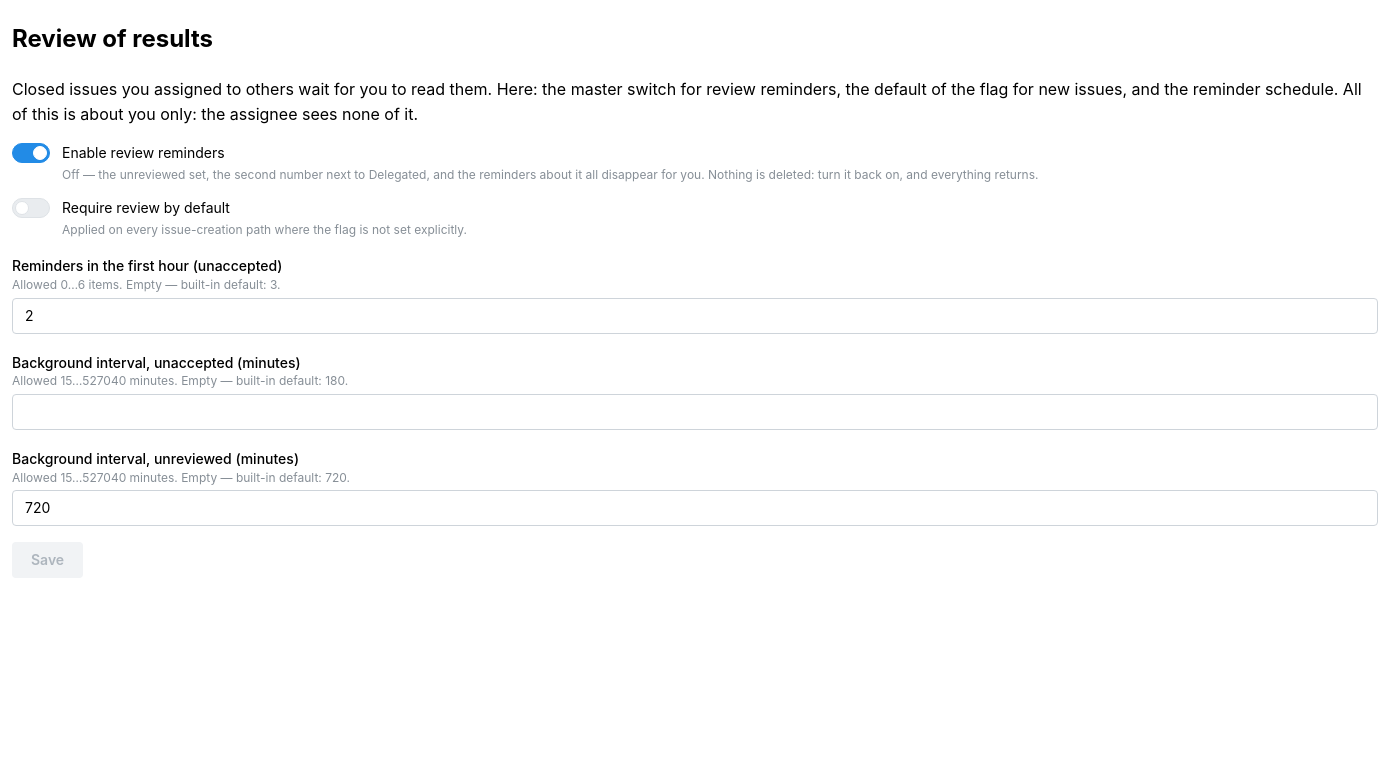
Test: row 99 — a value outside the bounds shows the server refusal, unedited › an interval below the minimum is refused the same way (SC-027)
This screenshot has width=1378, height=768.
Type "5" into the field with test id "review-unaccepted-interval" at point(695, 412), box [12, 394, 1377, 430]
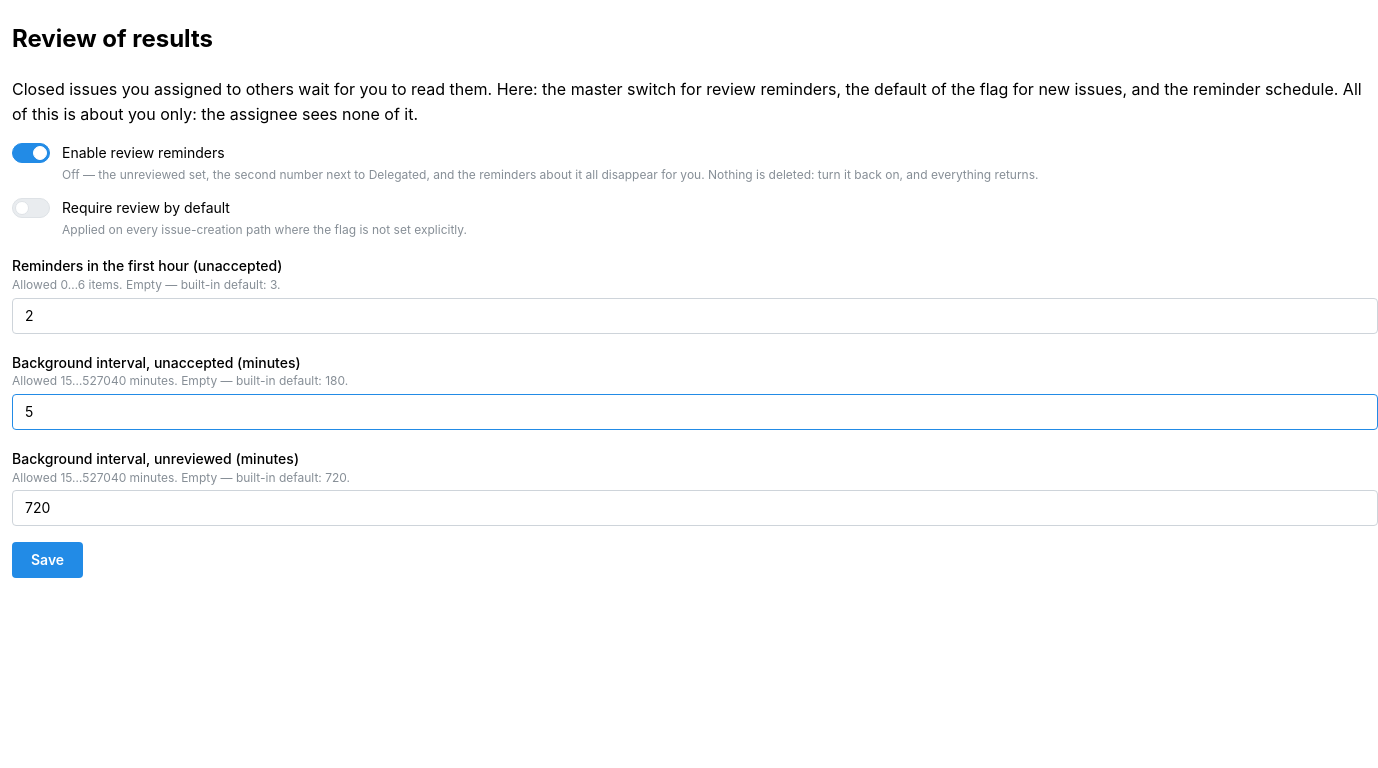
Click the button with aria-label "Save review settings" at point(48, 560), box [12, 542, 83, 578]
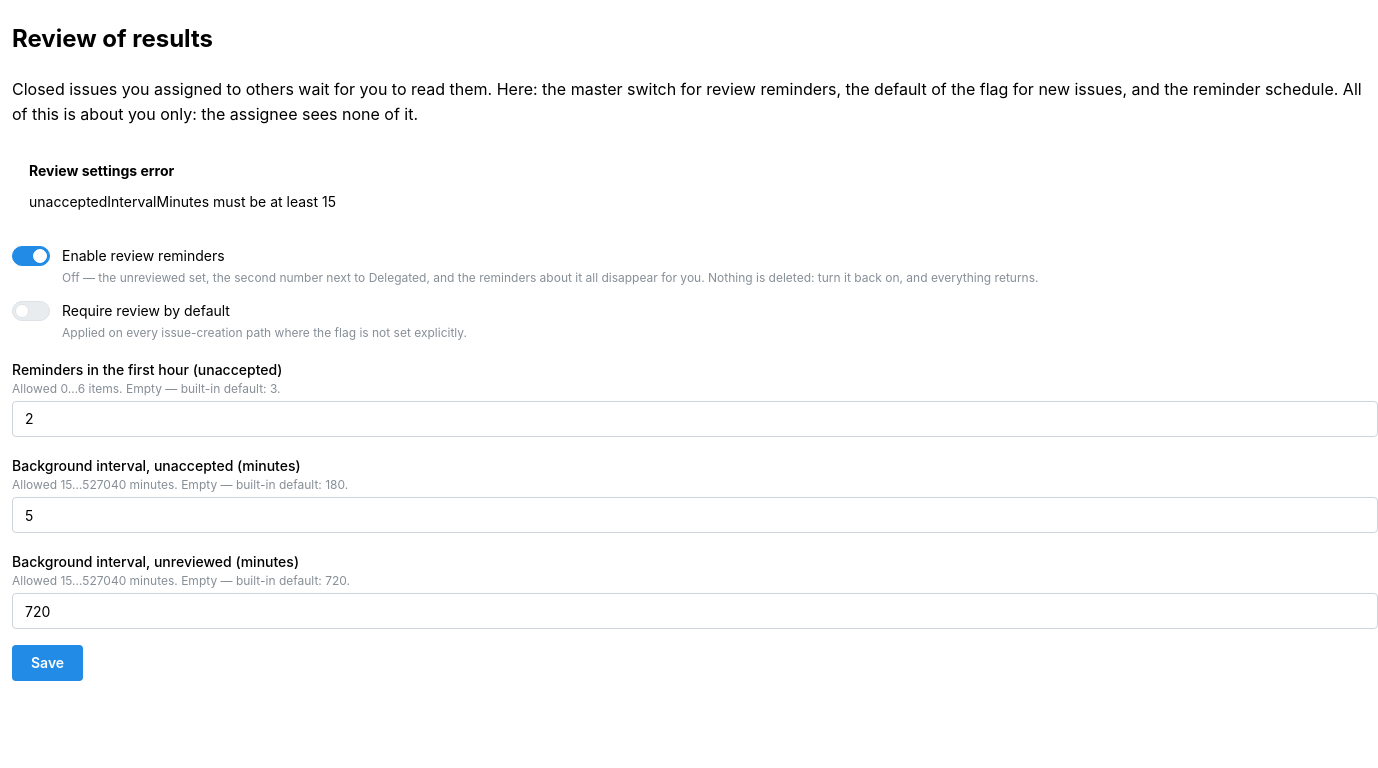
Check: the text "unacceptedIntervalMinutes must be at least 15" is shown, box [29, 193, 336, 210]
